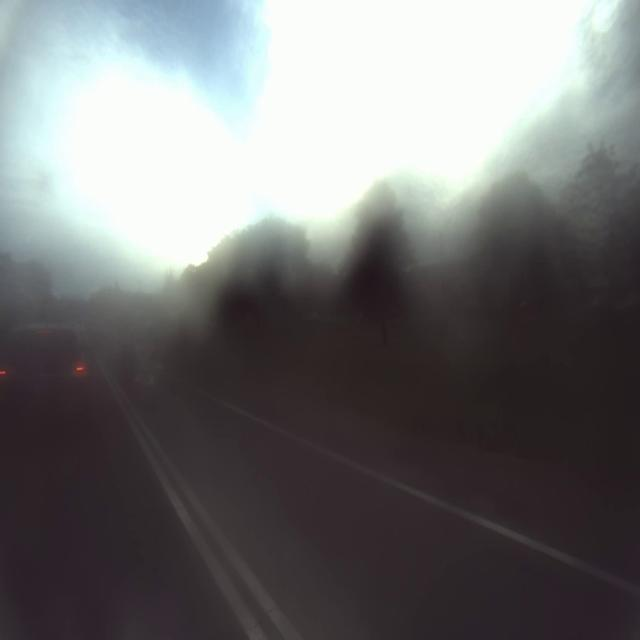car: (3, 319, 94, 436)
